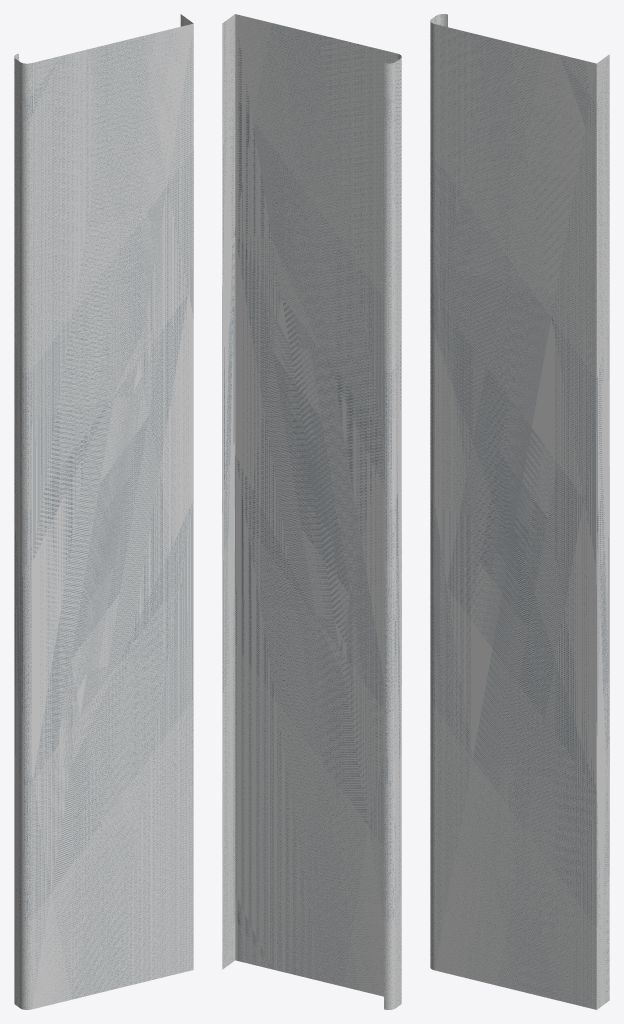
File: PW_SingleFixColumn_os_T2_075x010x400.dae
The picture shows the model from 3 angles, left to right: view 1: azimuth 30°, elevation 25°; view 2: azimuth 150°, elevation 25°; view 3: azimuth 330°, elevation 25°; orthographic projection.
Visible parts, largest first — view 1: group_0; view 2: group_0; view 3: group_0.
Boxes of the visible parts, x1,y1,x2,y2 form: group_0: [14, 14, 193, 1009]; group_0: [222, 14, 401, 1009]; group_0: [430, 14, 609, 1009].
Size of the model in its own units: 29.53 by 3.94 by 157.
